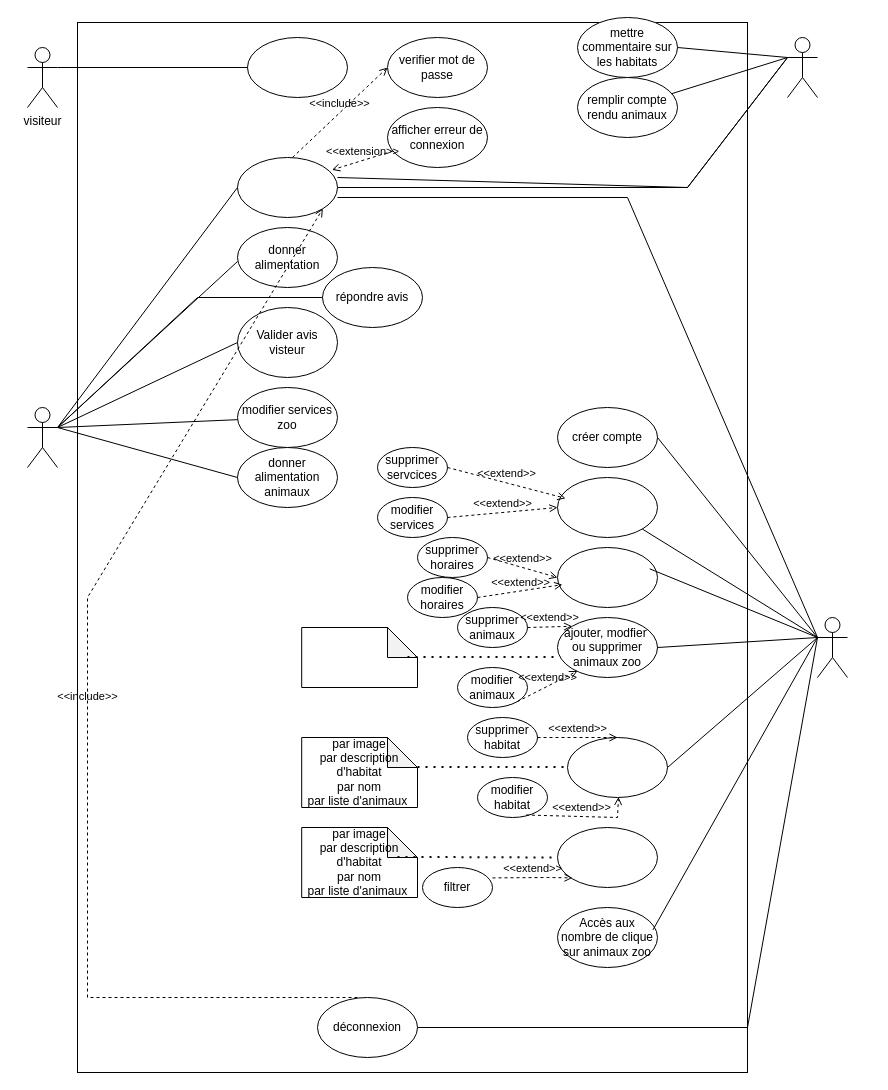
Some shapes in this 888 by 1090 pixel diagram are drawn without their labels. Each missing label, with the box of its shape:
Administrateur: (816, 616, 848, 678)
ajouterhoraires: (556, 546, 658, 608)
connexion: (236, 156, 338, 218)
créer services: (556, 476, 658, 538)
créer,habitat: (566, 736, 668, 798)
Employer: (26, 406, 58, 468)
laisser un avis: (246, 36, 348, 98)
par image par habitat affecté par prénom par race: (301, 626, 418, 688)
trier et filtrer les comptes rendu animaux: (556, 826, 658, 888)
Veterinaire: (786, 36, 818, 98)
